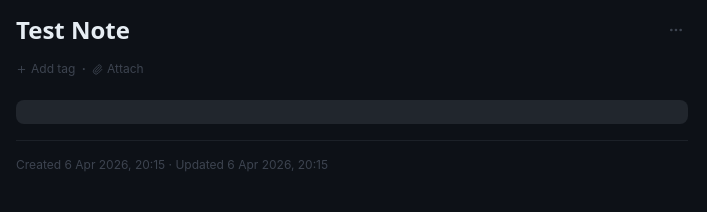
Test: NoteDetail › navigates collection submenu back to main actions
Click the button named "Note actions".
click(676, 30)  # box [664,18,688,42]
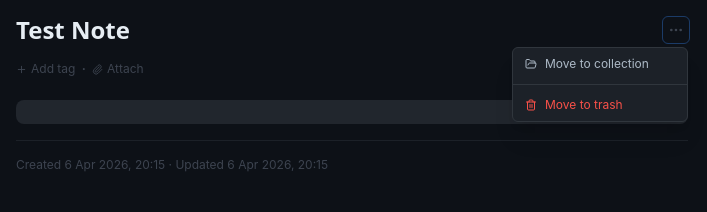
Click the button "Move to collection".
click(600, 64)  # box [513,48,687,80]
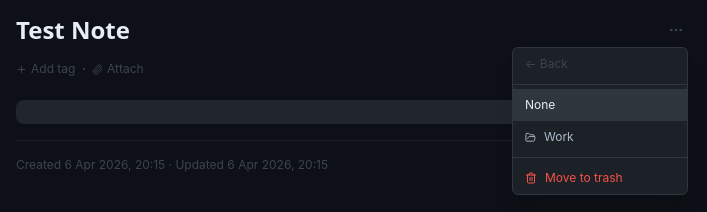
Now the button "Work" is shown, box [513,121,687,153]
Click the button "← Back".
click(600, 64)  # box [513,48,687,80]
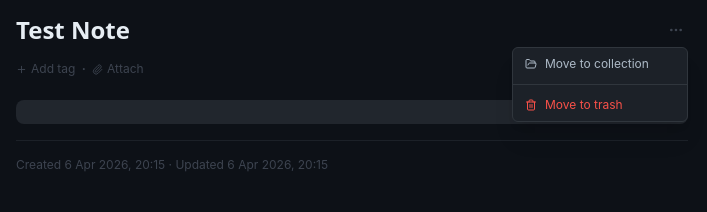
Now the button "Move to collection" is shown, box [513,48,687,80]
